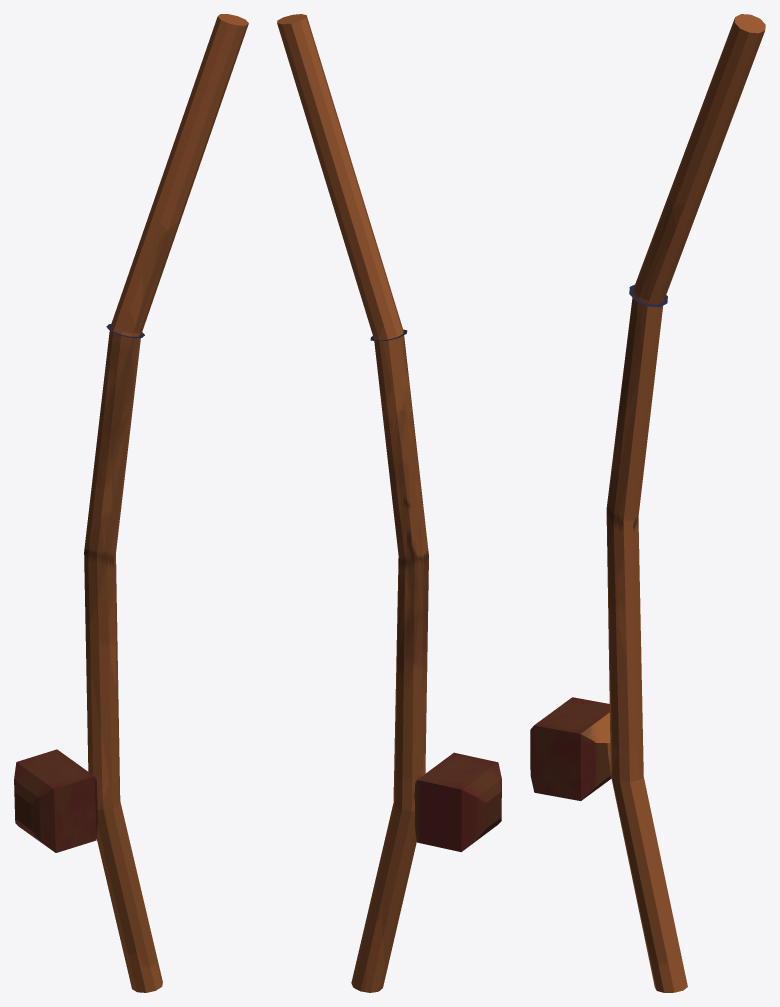
File: Berimbau.fbx
3 renders of one model, left to right at view 1: azimuth 30°, elevation 25°; view 2: azimuth 150°, elevation 25°; view 3: azimuth 330°, elevation 25°, orthographic. The views are drawn at different scales.
Visible parts, largest first — view 1: Cylinder; view 2: Cylinder; view 3: Cylinder.
Boxes of the visible parts, x1,y1,x2,y2 form: Cylinder: (14,14,248,992); Cylinder: (277,14,501,992); Cylinder: (530,14,765,992).
Bounding box in the file's own units: 130 × 539 × 41.03.
1 material, 1 textured.
